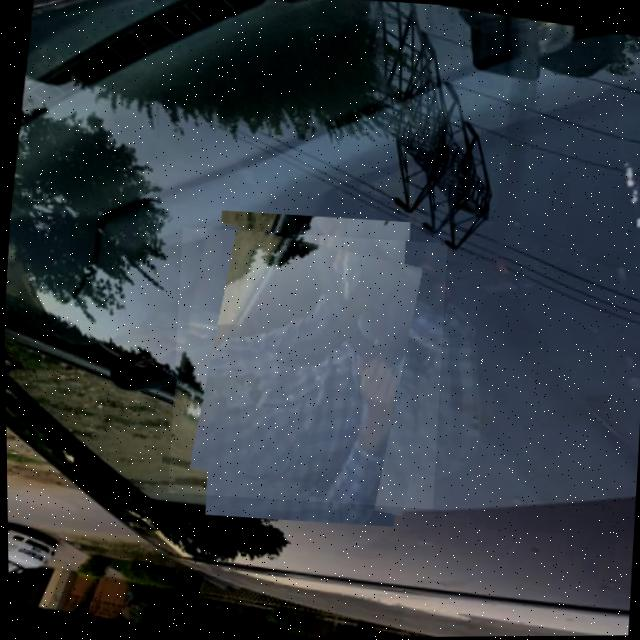no-seatbelt: (163, 225, 449, 511)
